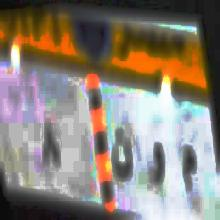8: (39, 117, 60, 171)
meem: (180, 142, 197, 195)
noon: (109, 117, 134, 186)
waw: (148, 140, 166, 193)
